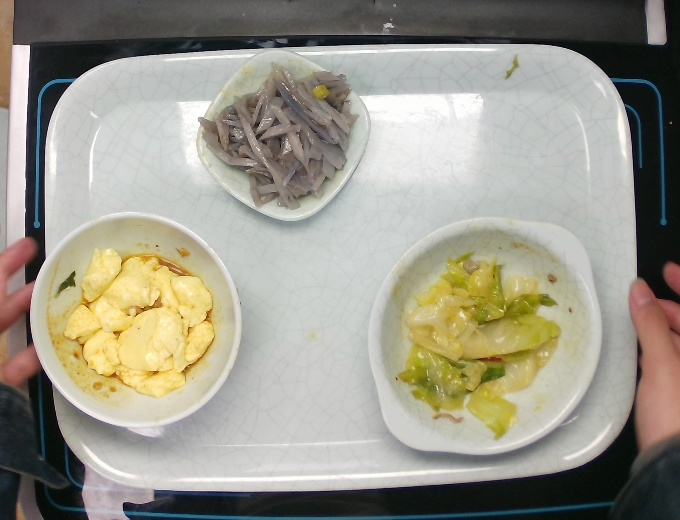JYsf-Fan_Wan: (27, 210, 244, 430)
JYsf-Shuang_Er_Wan: (365, 214, 604, 457)
JYsf-Si_Fang_Die: (193, 47, 373, 223)
